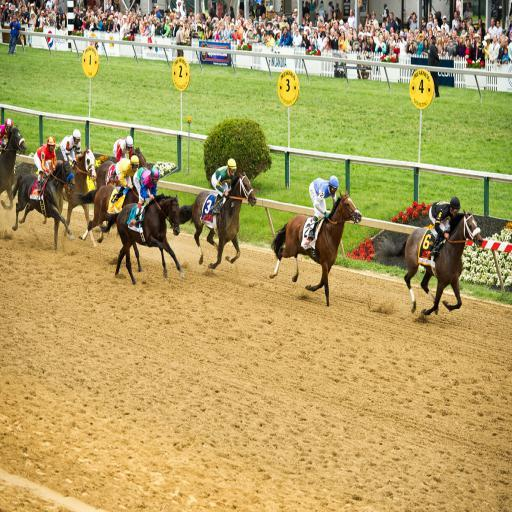Horse: (371, 210, 483, 318), (267, 189, 362, 307), (178, 171, 258, 271), (100, 192, 184, 284), (8, 158, 76, 254), (43, 145, 97, 249), (0, 122, 28, 212), (94, 145, 148, 188)
